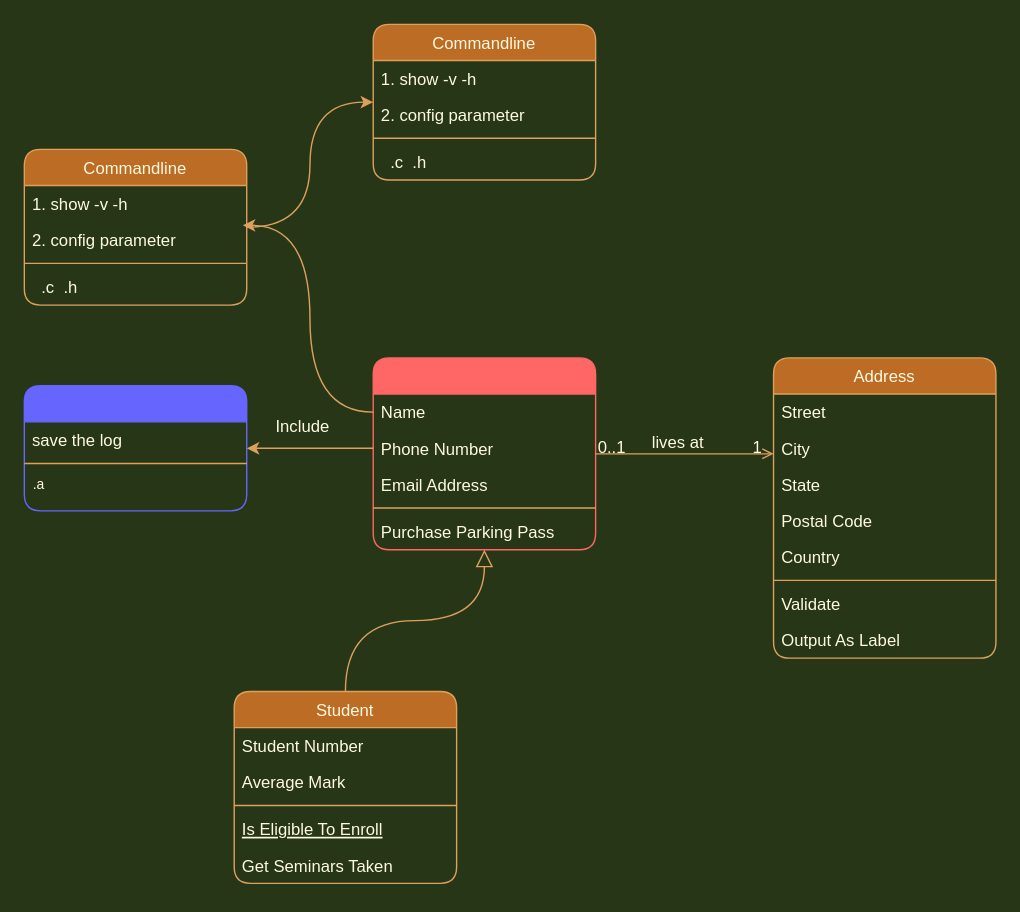
This 1020x912 diagram has some shape labels left out. Each missing label, with the box of its shape:
Main: (372, 357, 596, 550)
QuickLogger: (23, 384, 247, 511)
